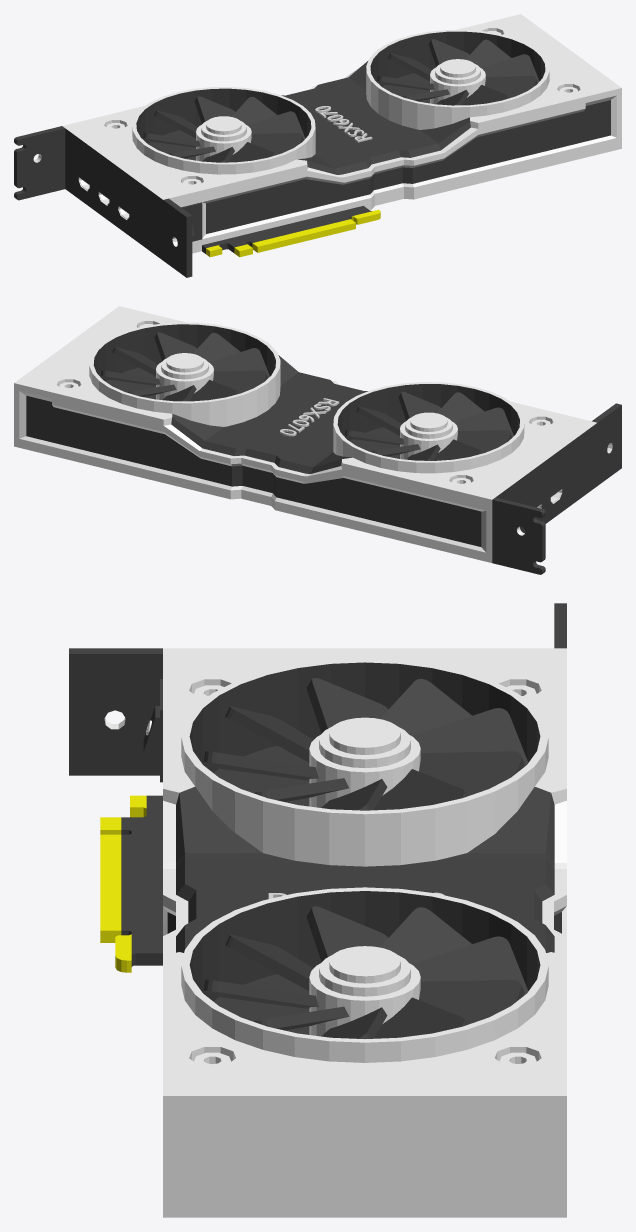
The model's file is RSX6070.fbx.
The picture shows the model from 3 angles, top to bottom: view 1: azimuth 30°, elevation 25°; view 2: azimuth 150°, elevation 25°; view 3: azimuth 270°, elevation 25°; orthographic projection. The views are drawn at different scales.
Parts seen in each view (by area): view 1: Cube.175; view 2: Cube.175; view 3: Cube.175.
Boxes of the visible parts, box(x1,y1,x2,y2) form: Cube.175: box(14, 14, 621, 277); Cube.175: box(14, 306, 621, 574); Cube.175: box(69, 603, 566, 1217).
Size of the model in its own units: 60.18 by 8.27 by 25.6.
Materials: 2 (1 with a texture image).
